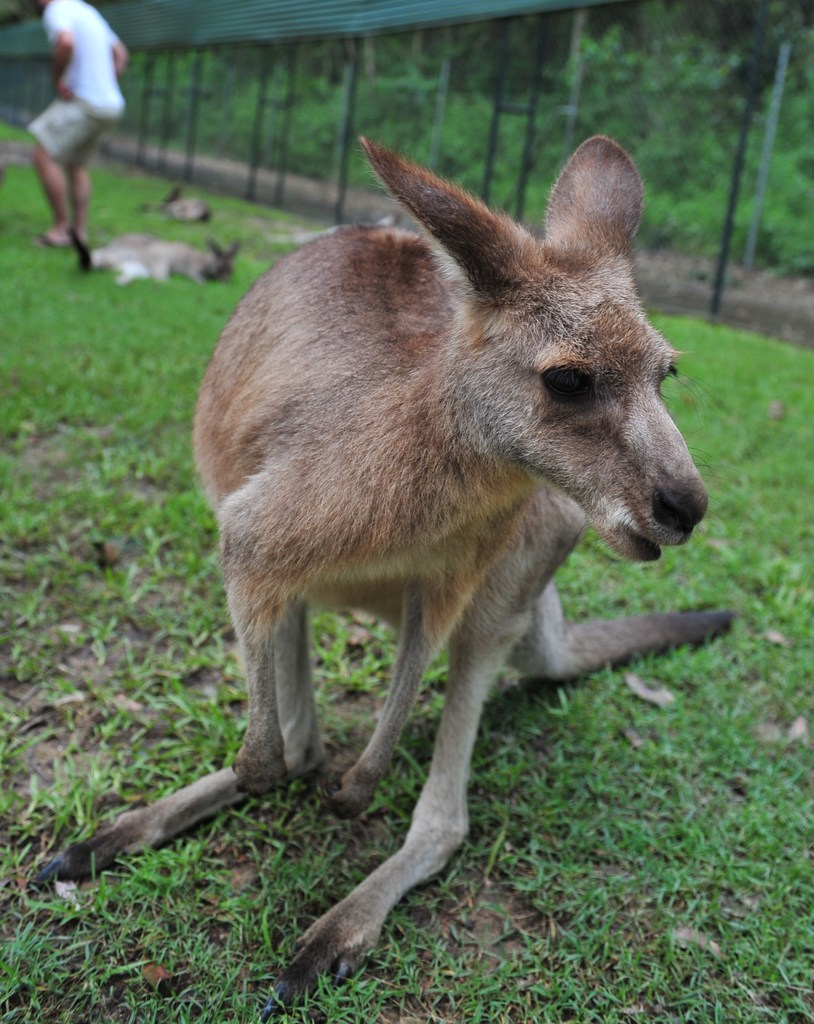kangaroo: (29, 135, 735, 1023), (66, 224, 240, 285)
